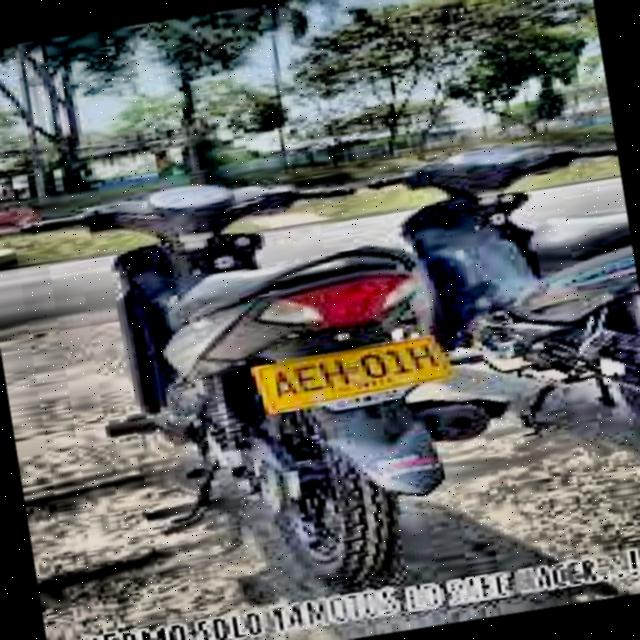0: (357, 351, 394, 381)
1: (382, 346, 417, 377)
A: (265, 368, 302, 401)
E: (289, 362, 328, 396)
H: (316, 358, 353, 392), (404, 342, 443, 374)
